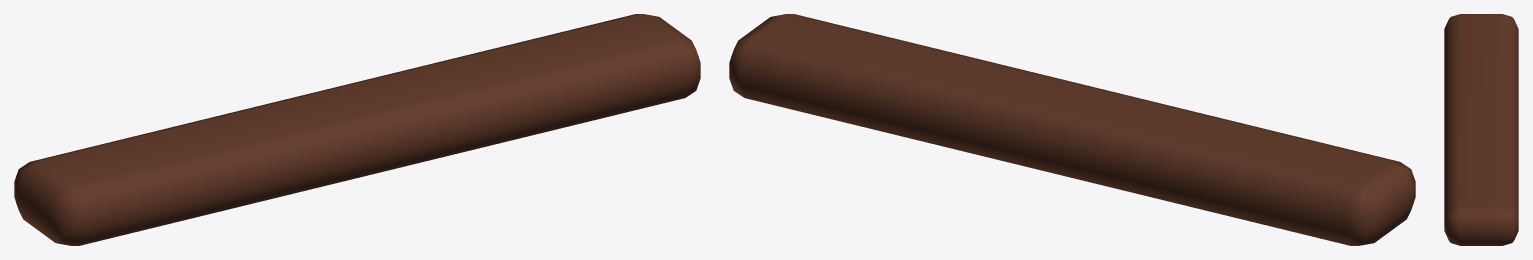
Rendered from WoodAxis.fbx.
3 renders of one model, left to right at view 1: azimuth 30°, elevation 25°; view 2: azimuth 150°, elevation 25°; view 3: azimuth 270°, elevation 25°, orthographic. The views are drawn at different scales.
Visible parts, largest first — view 1: pCube1; view 2: pCube1; view 3: pCube1.
Part boxes in pixels (<box>): pCube1: <box>14,14,700,245</box>; pCube1: <box>729,14,1415,245</box>; pCube1: <box>1444,14,1518,245</box>.
Size of the model in its own units: 6.52 by 0.5811 by 1.
